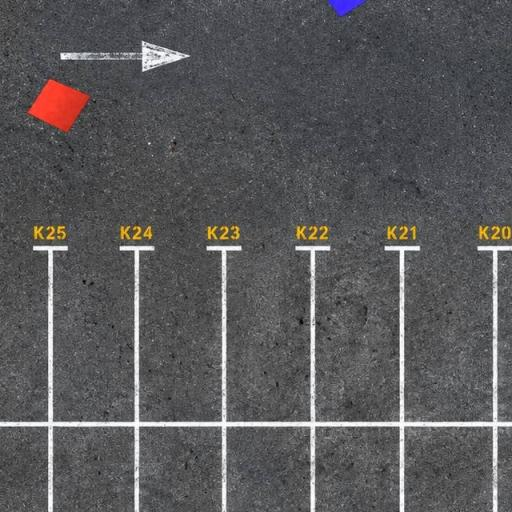RED_SQUARE: (26, 78, 92, 134)
